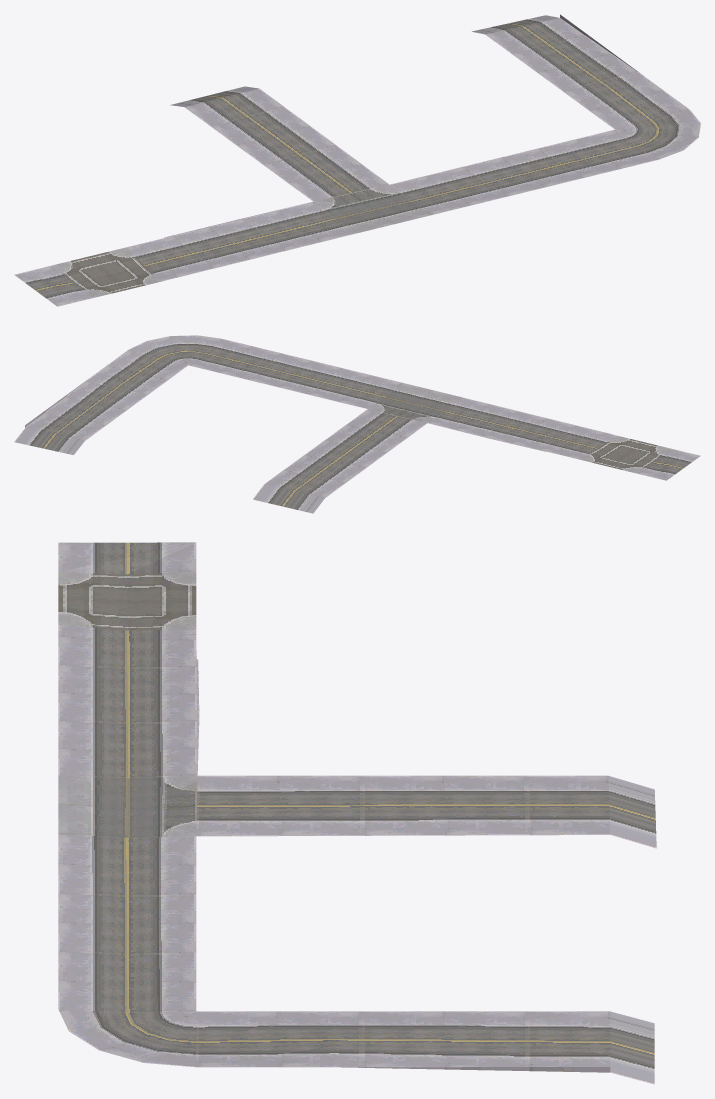
File: lodassedge09.obj
3 views of the same model, one above another, from view 1: azimuth 30°, elevation 25°; view 2: azimuth 150°, elevation 25°; view 3: azimuth 270°, elevation 25° (orthographic). The views are drawn at different scales.
Visible parts, largest first — view 1: lodasSedge09; view 2: lodasSedge09; view 3: lodasSedge09.
Part boxes in pixels (<box>): lodasSedge09: <box>14,14,700,306</box>; lodasSedge09: <box>14,335,700,513</box>; lodasSedge09: <box>58,542,656,1084</box>.
Bounding box in the file's own units: 180 × 2.83 × 86.72.
3 materials, 3 textured.
